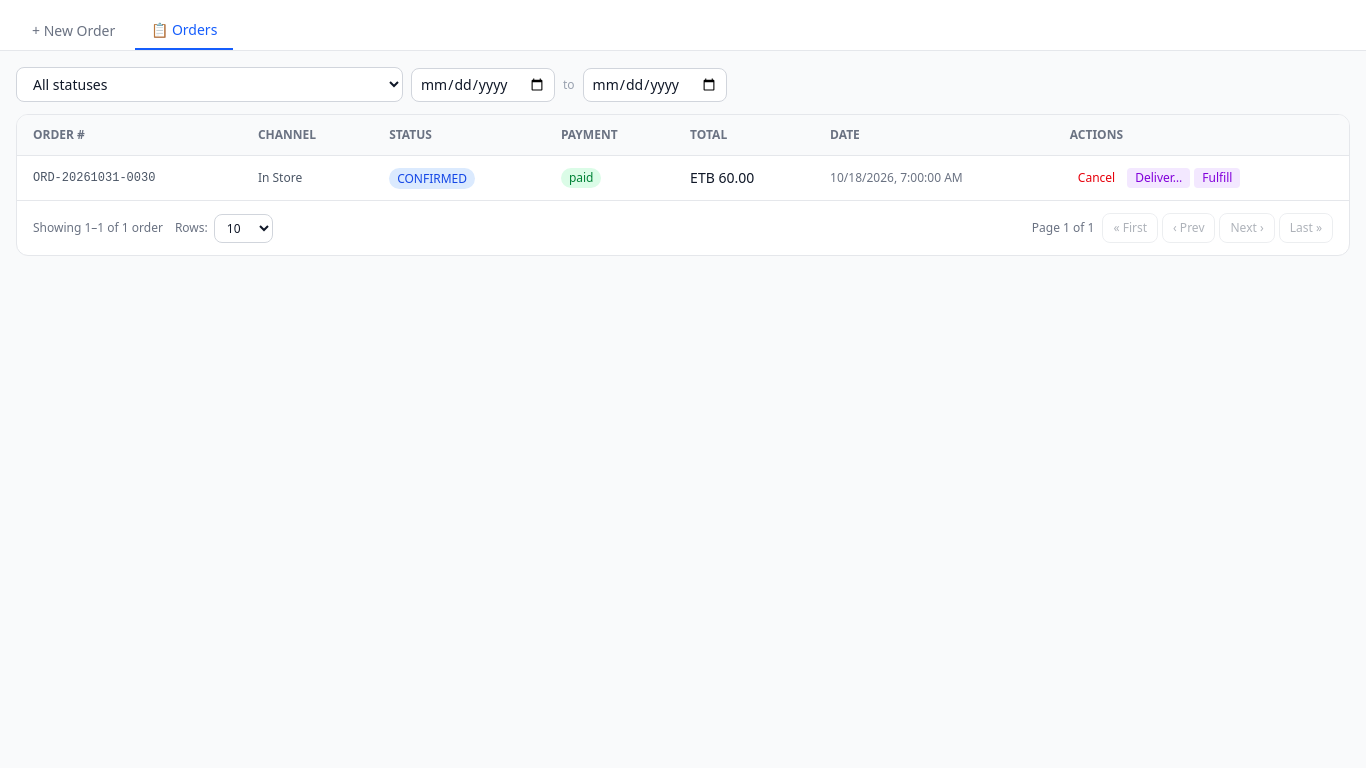
Test: Delivering an order in parts, and cancelling the rest (#174) › delivers the copies entered per line, at most what is waiting, and opens the delivery note (was: all or nothing)
Click the button "📋 Orders" at (184, 31), box top-left (135, 12), bottom-right (233, 50)
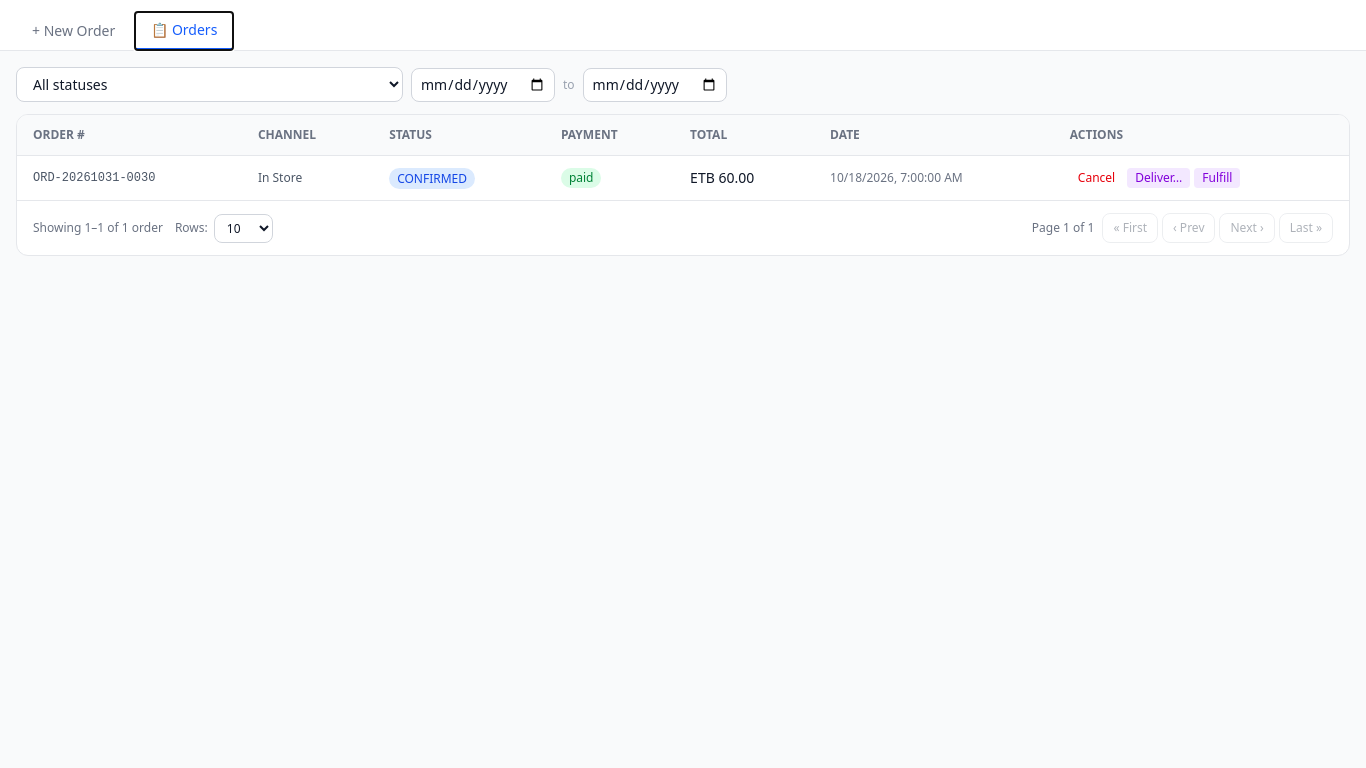
Expected: the text "ORD-20261031-0030" is shown, top-left (17, 156), bottom-right (242, 200)
Expected: the button "Fulfill" is shown, top-left (1194, 168), bottom-right (1240, 188)
Click the button "Deliver…" at (1159, 178), box top-left (1127, 168), bottom-right (1190, 188)
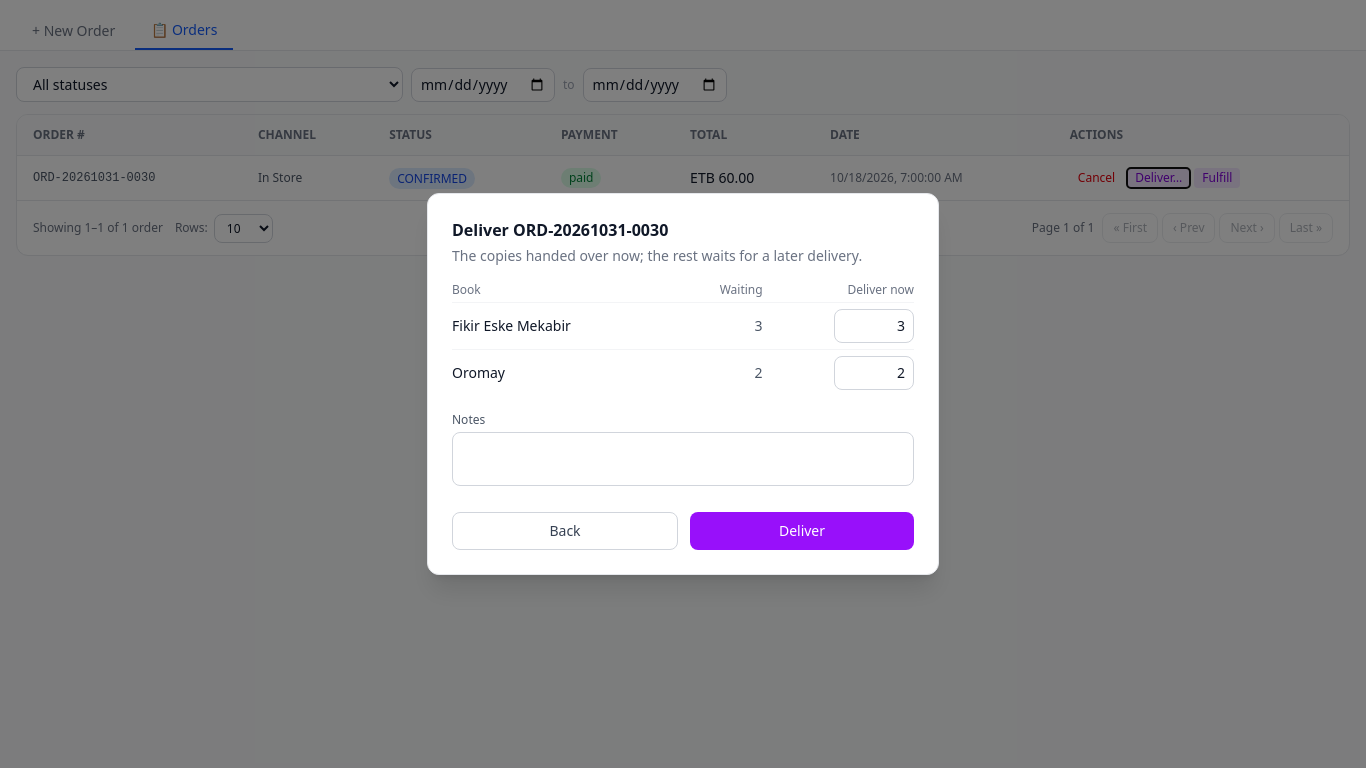
Replace the text in the field named "Copies of Fikir Eske Mekabir to deliver" with "4" at (874, 326), box top-left (834, 309), bottom-right (914, 343)
Click the button "Deliver" at (802, 531), box top-left (690, 512), bottom-right (914, 550)
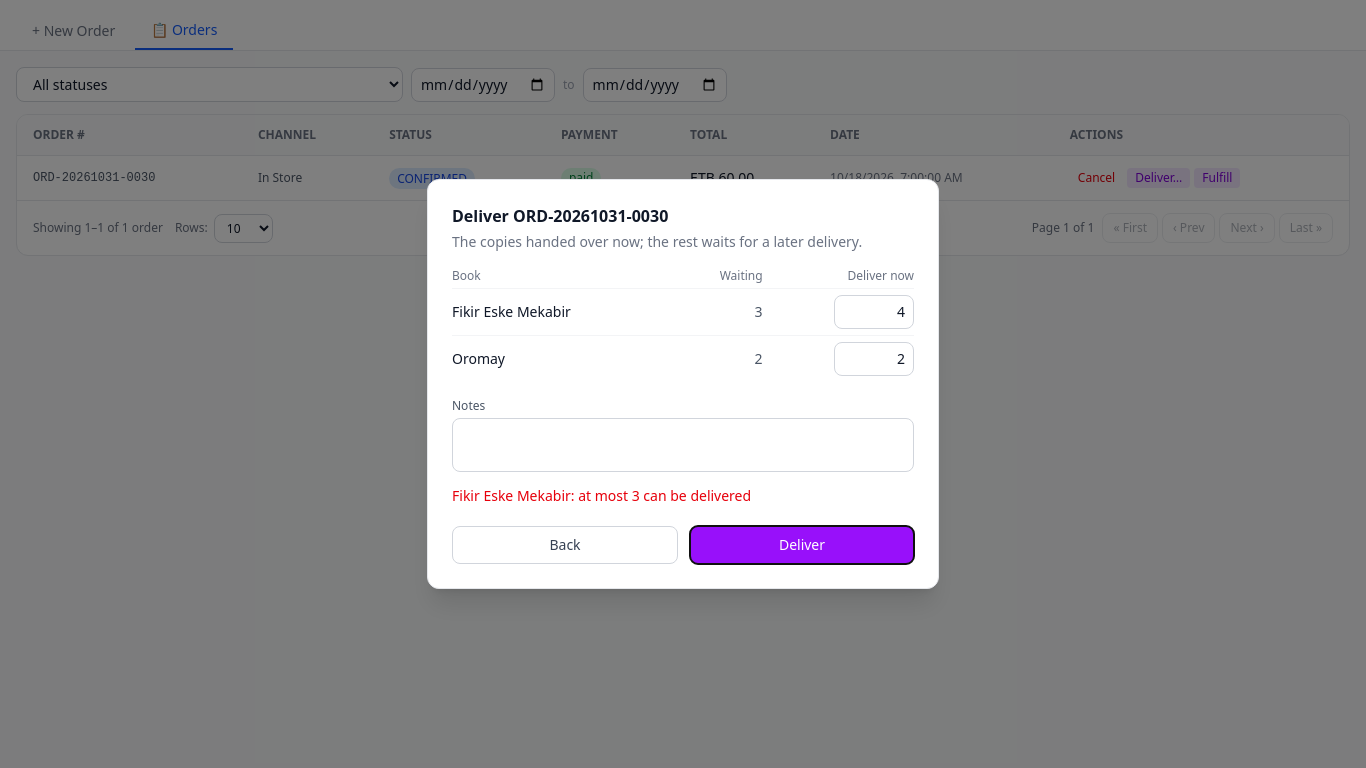
Result: the message shows "Fikir Eske Mekabir: at most 3" at top-left (452, 486), bottom-right (751, 505)
Replace the text in the field named "Copies of Fikir Eske Mekabir to deliver" with "2" at (874, 312), box top-left (834, 295), bottom-right (914, 329)
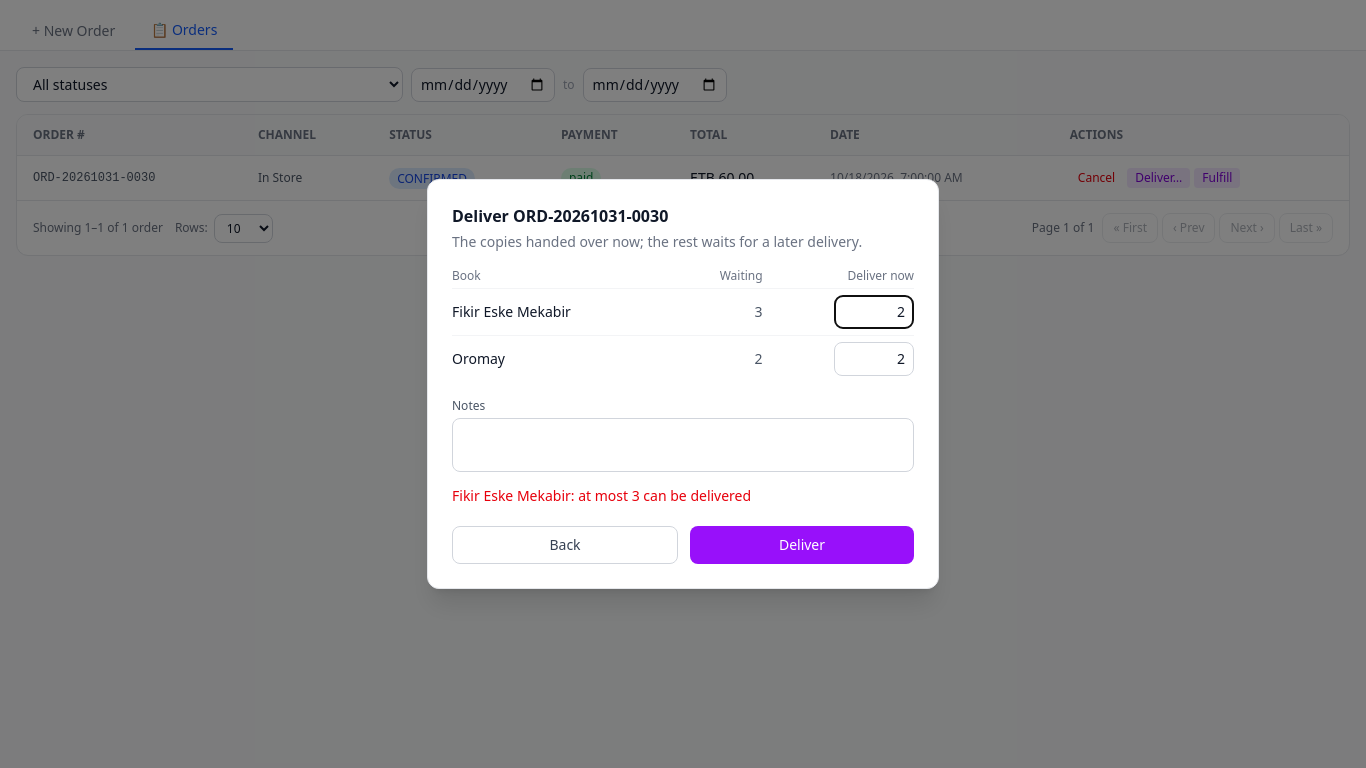
Replace the text in the field named "Copies of Oromay to deliver" with "0" at (874, 359), box top-left (834, 342), bottom-right (914, 376)
Type "Took two now" into the text box labelled "Notes" at (683, 445), box top-left (452, 418), bottom-right (914, 472)
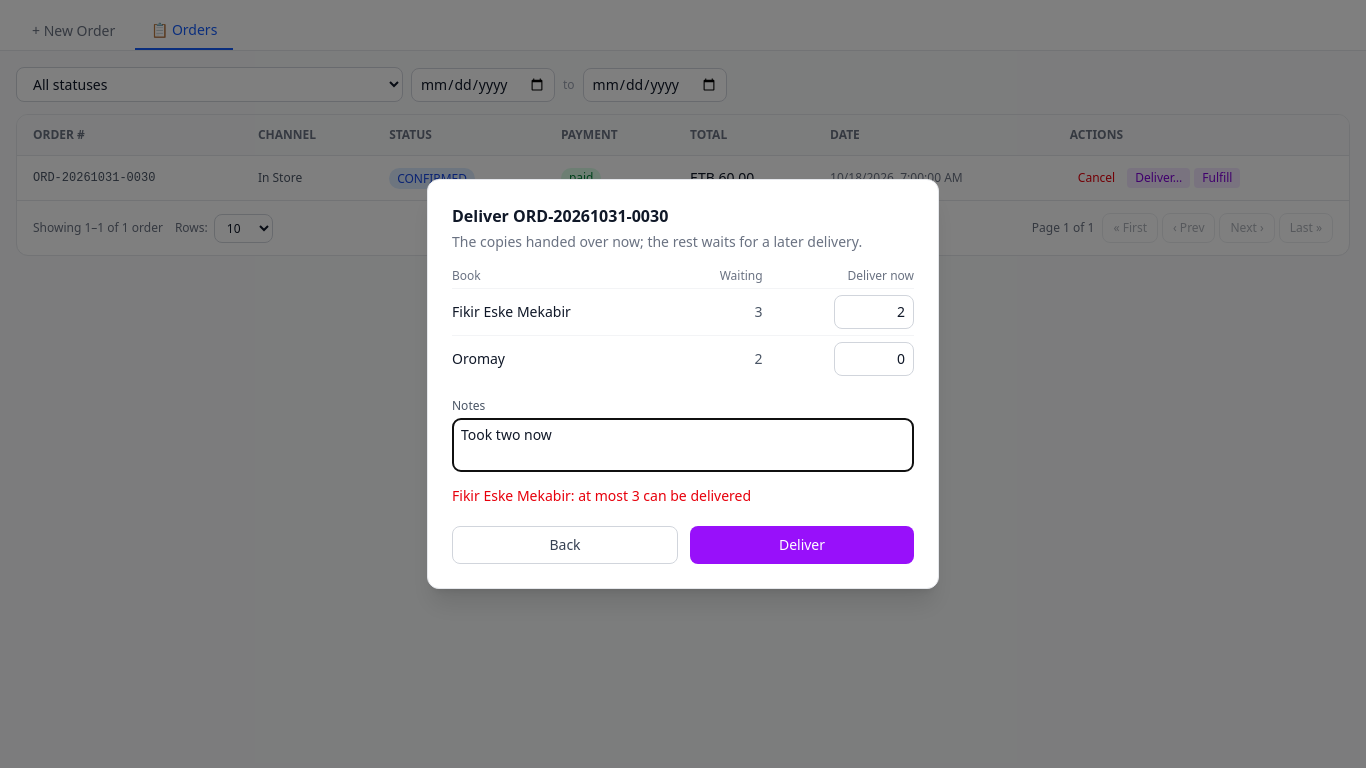
Click the button "Deliver" at (802, 545), box top-left (690, 526), bottom-right (914, 564)
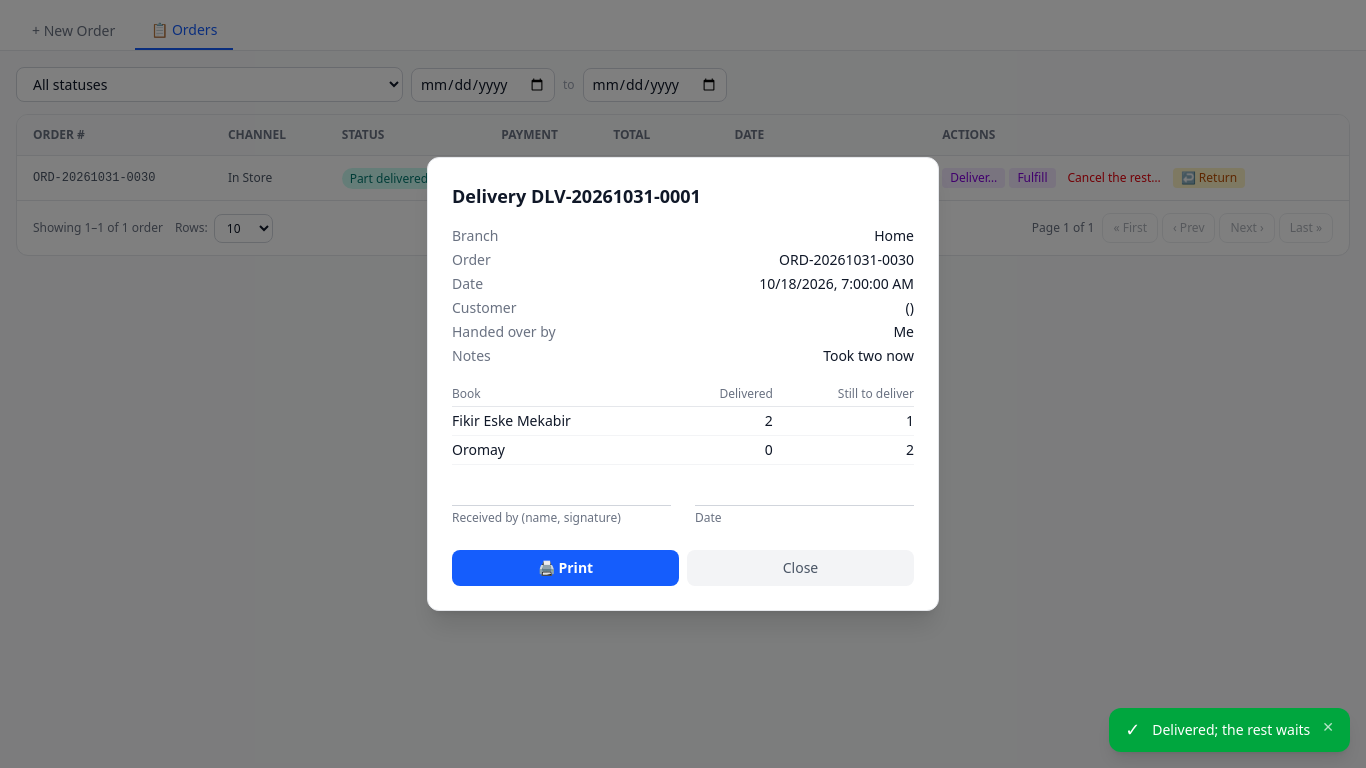
Result: the dialog "Delivery DLV-20261031-0001" shows "ORD-20261031-0030" at top-left (779, 250), bottom-right (914, 269)
Result: the row "Fikir Eske Mekabir 2 1" is shown at top-left (452, 406), bottom-right (914, 436)
